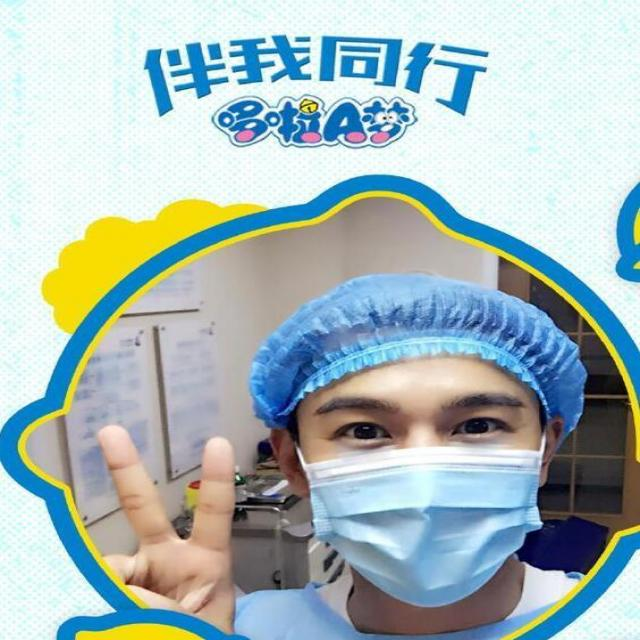mask: (306, 372, 542, 607)
